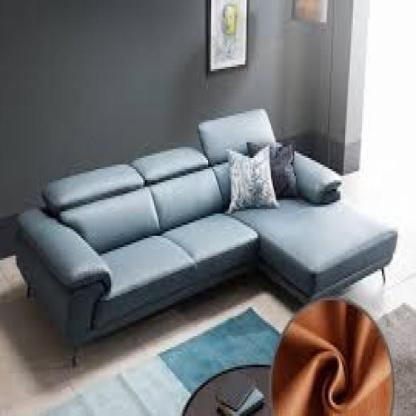Sofa: (16, 91, 406, 406)
